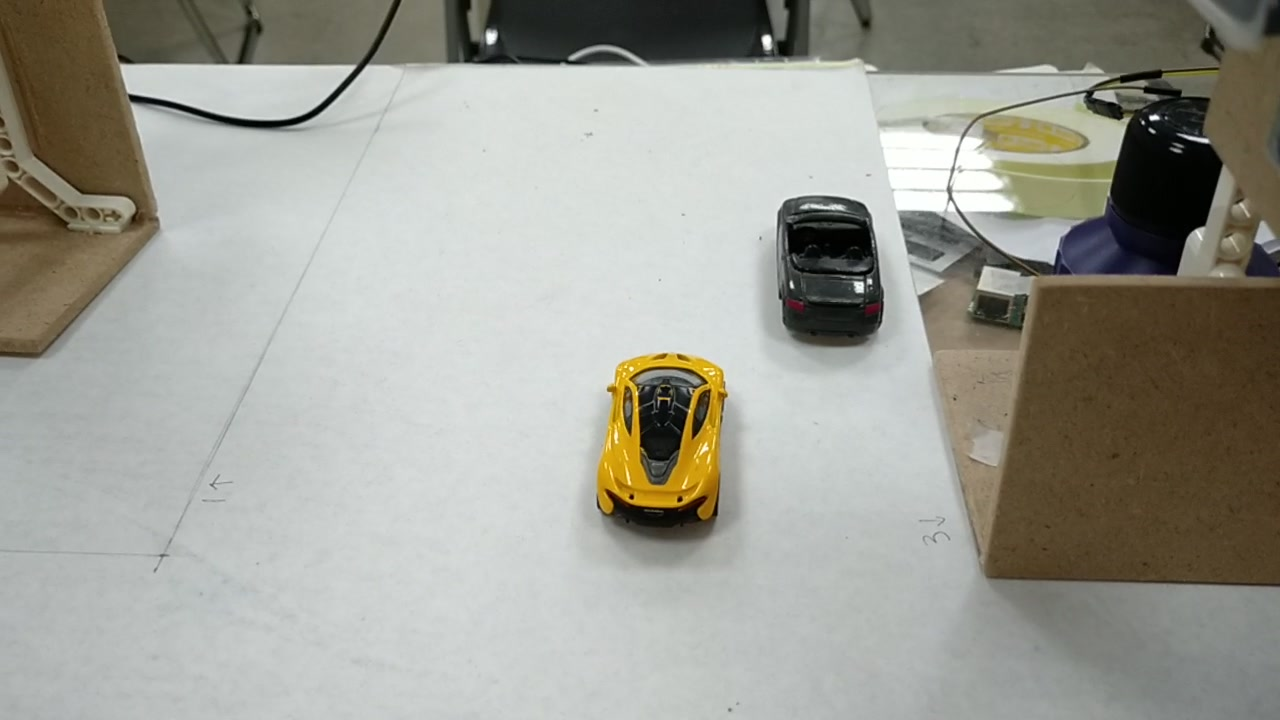car: (599, 353, 730, 516), (780, 192, 881, 335)
